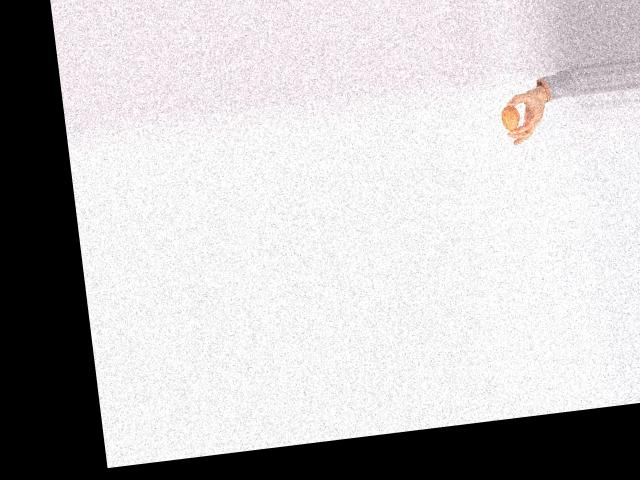egg: (499, 105, 520, 132)
